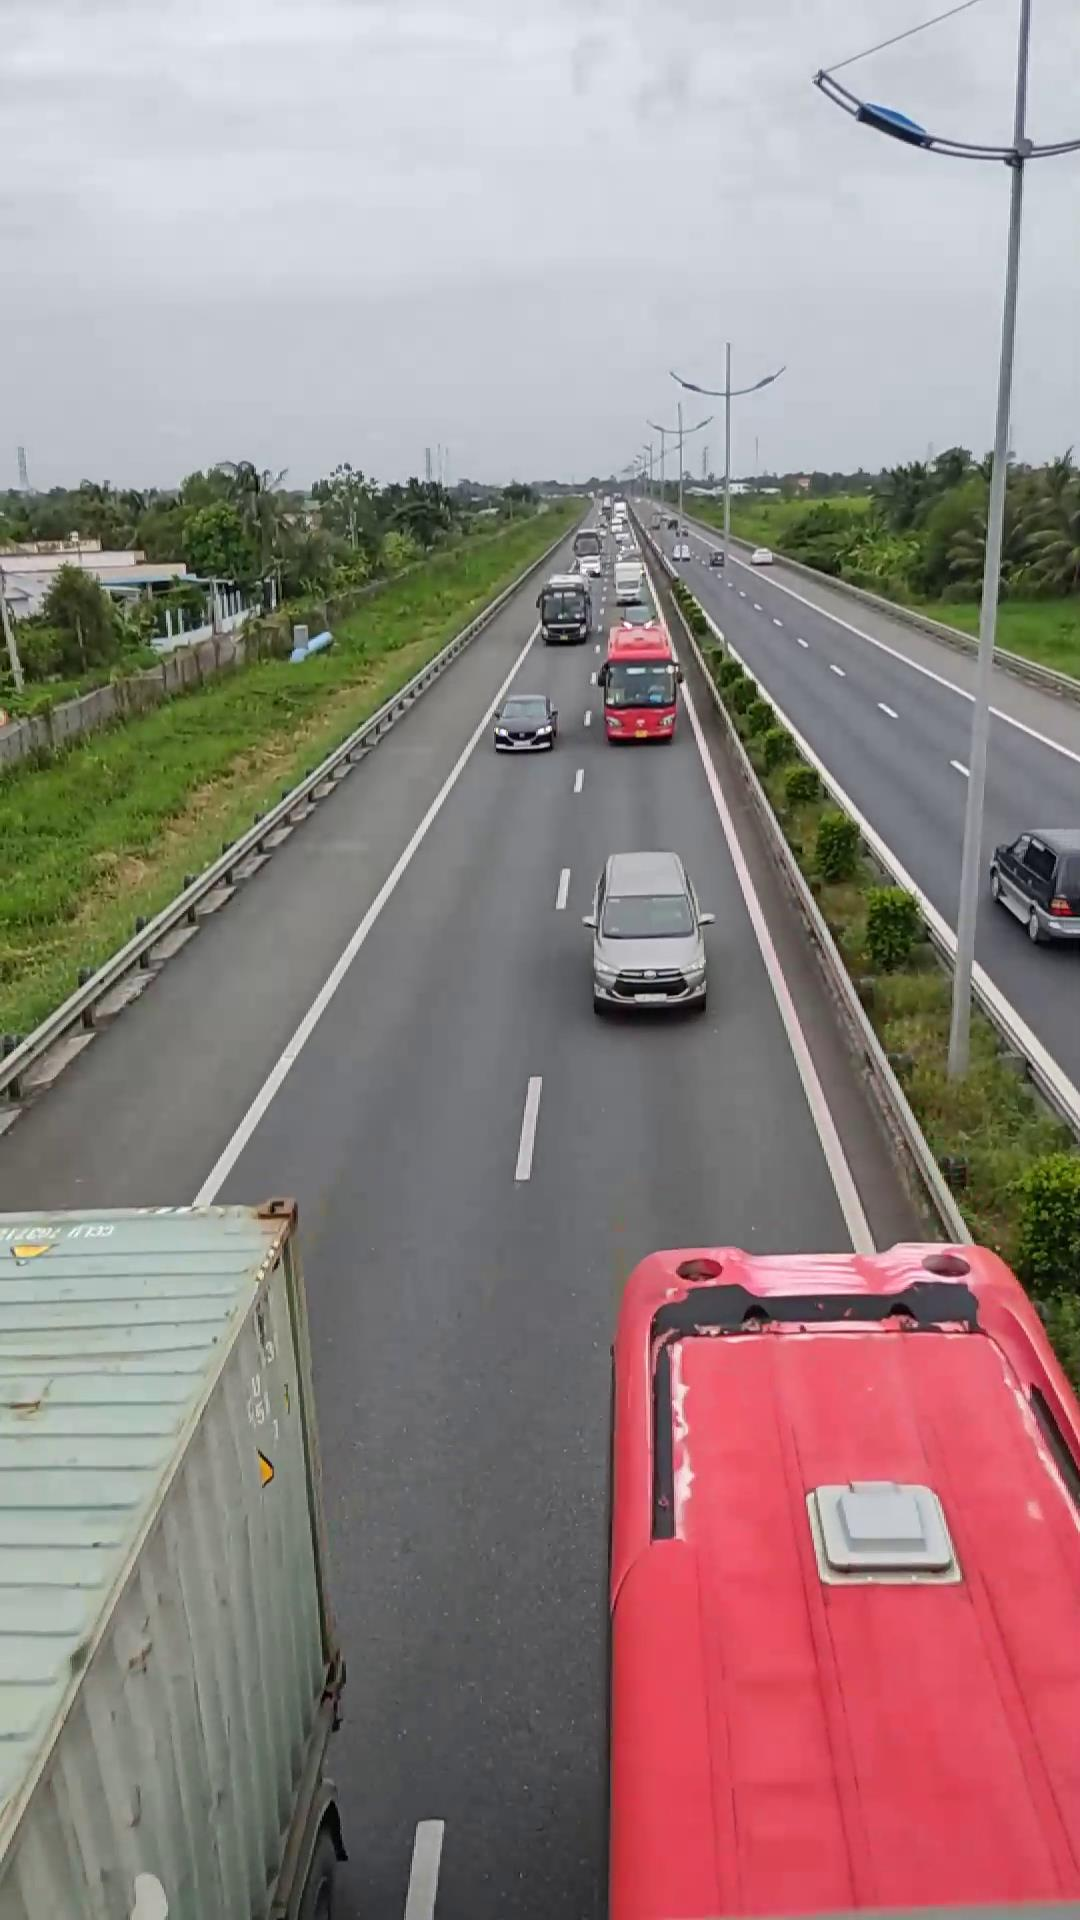bus: (611, 1244, 1080, 1913)
car: (584, 849, 711, 1015), (986, 825, 1077, 947), (491, 692, 559, 752)
container: (0, 1199, 355, 1919)
